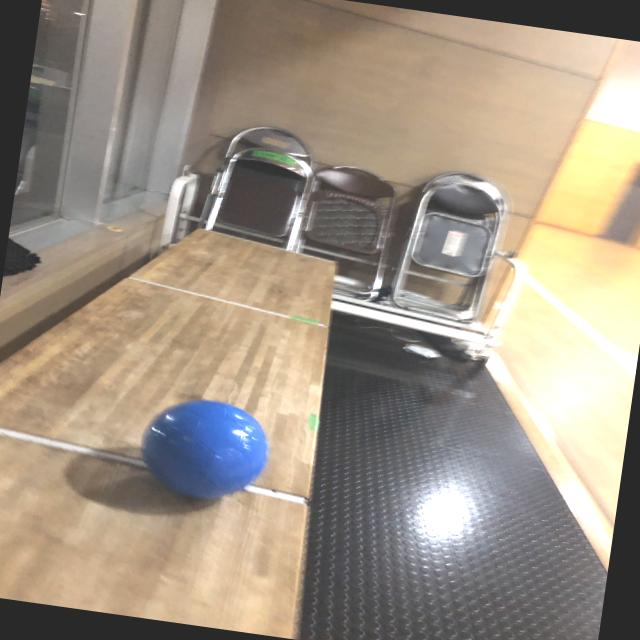blue_ball: (138, 394, 270, 508)
